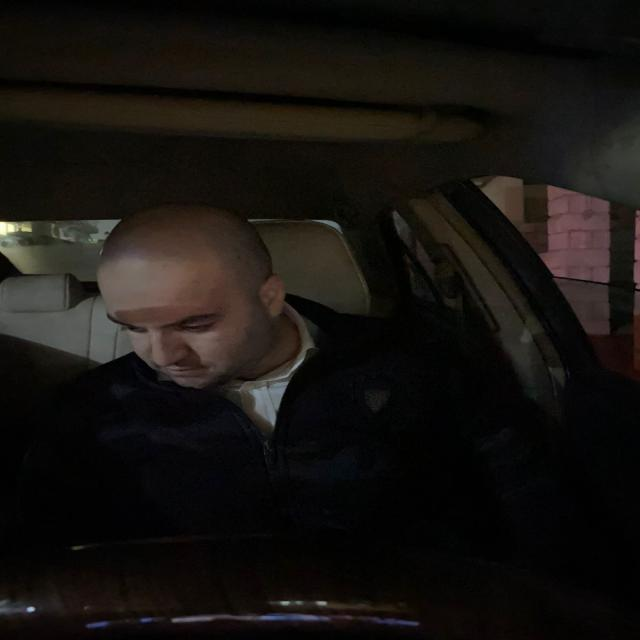person: (97, 183, 296, 397)
